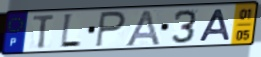3: (171, 8, 199, 45)
A: (123, 9, 162, 48), (198, 8, 232, 43)
L: (59, 12, 83, 50)
P: (94, 10, 128, 49)
T: (31, 13, 57, 50)
